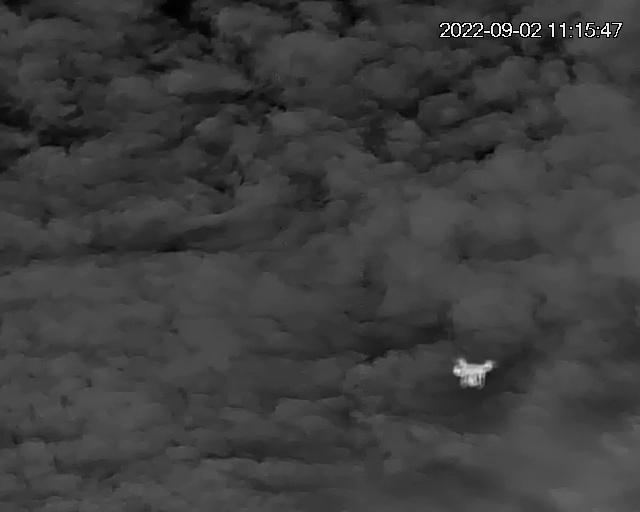DJI-Phantom: (451, 355, 498, 389)
